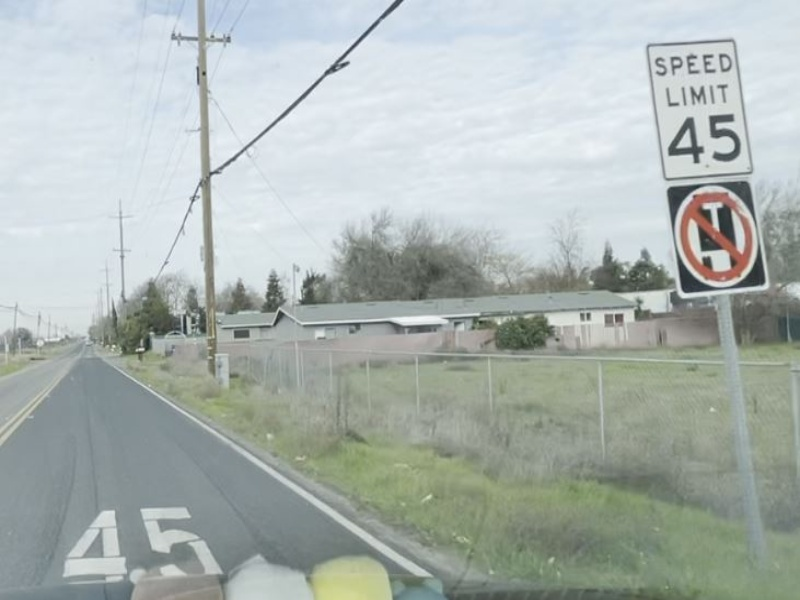speed limit sign: (642, 35, 756, 183)
